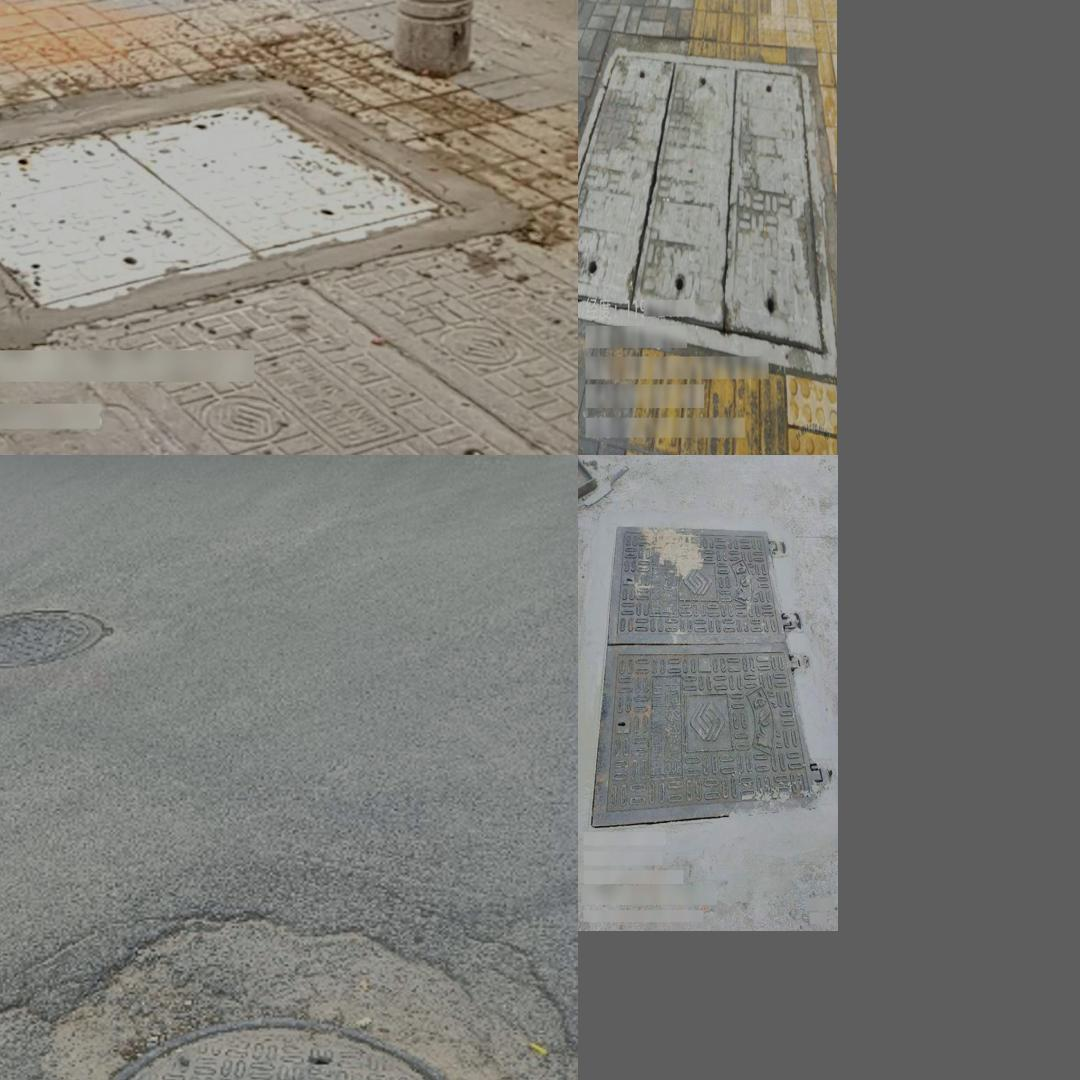good: (0, 93, 465, 307), (578, 36, 833, 368), (588, 524, 823, 828), (62, 1017, 519, 1080), (0, 606, 117, 672)
